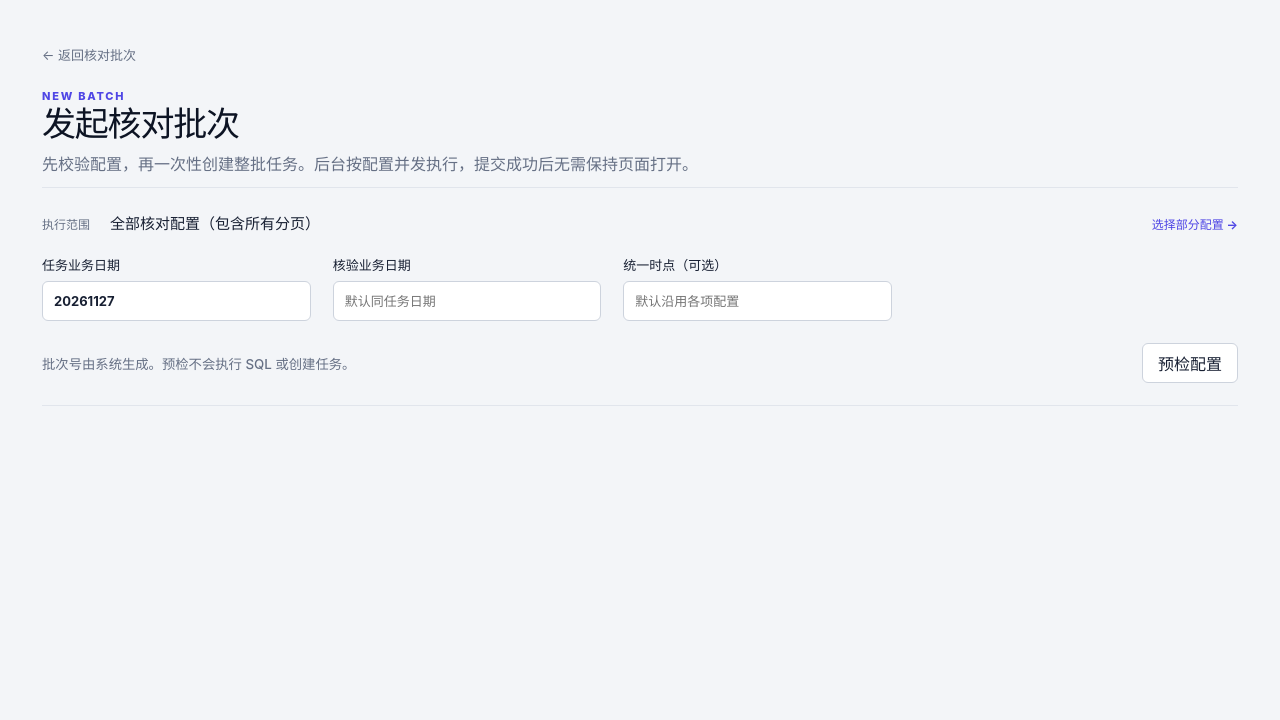
Test: requires a new preview after dates change or the server declares a stale preview
The width and height of the screenshot is (1280, 720).
Step 1. Click the button "预检配置" → (1190, 363), box [1142, 343, 1238, 383]
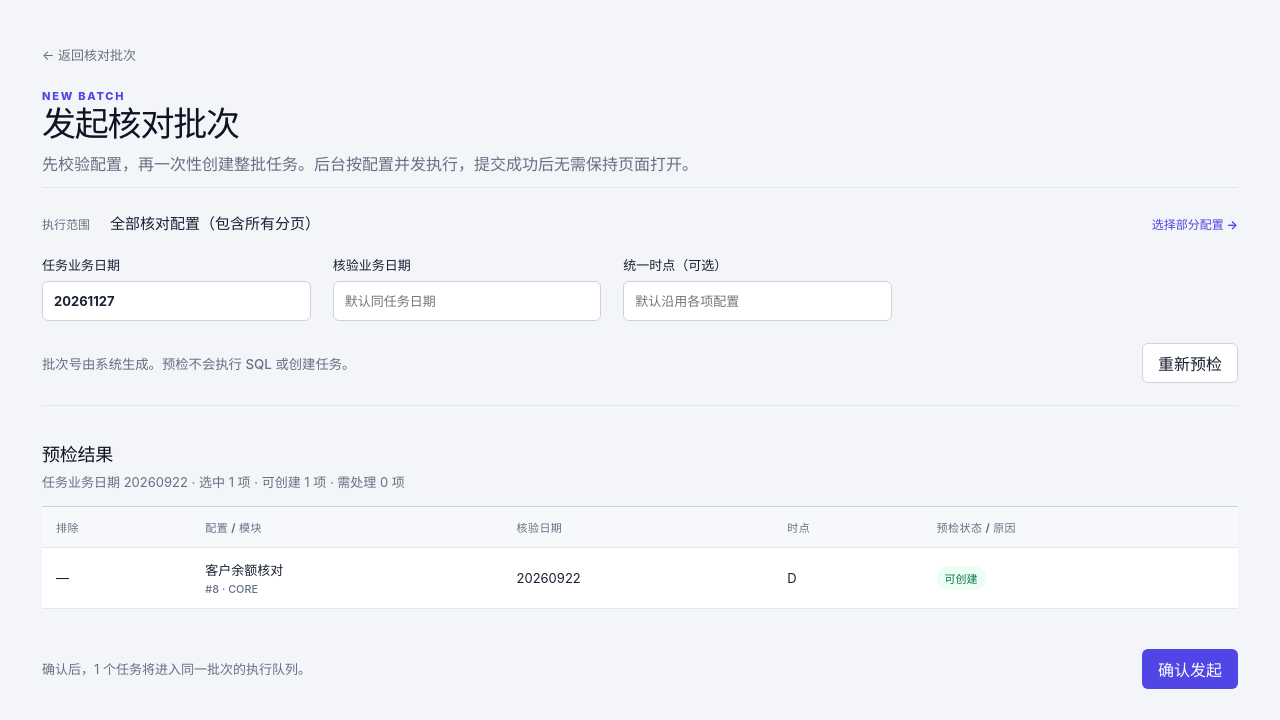
Step 2. Click the button "确认发起" → (1190, 669), box [1142, 649, 1238, 689]
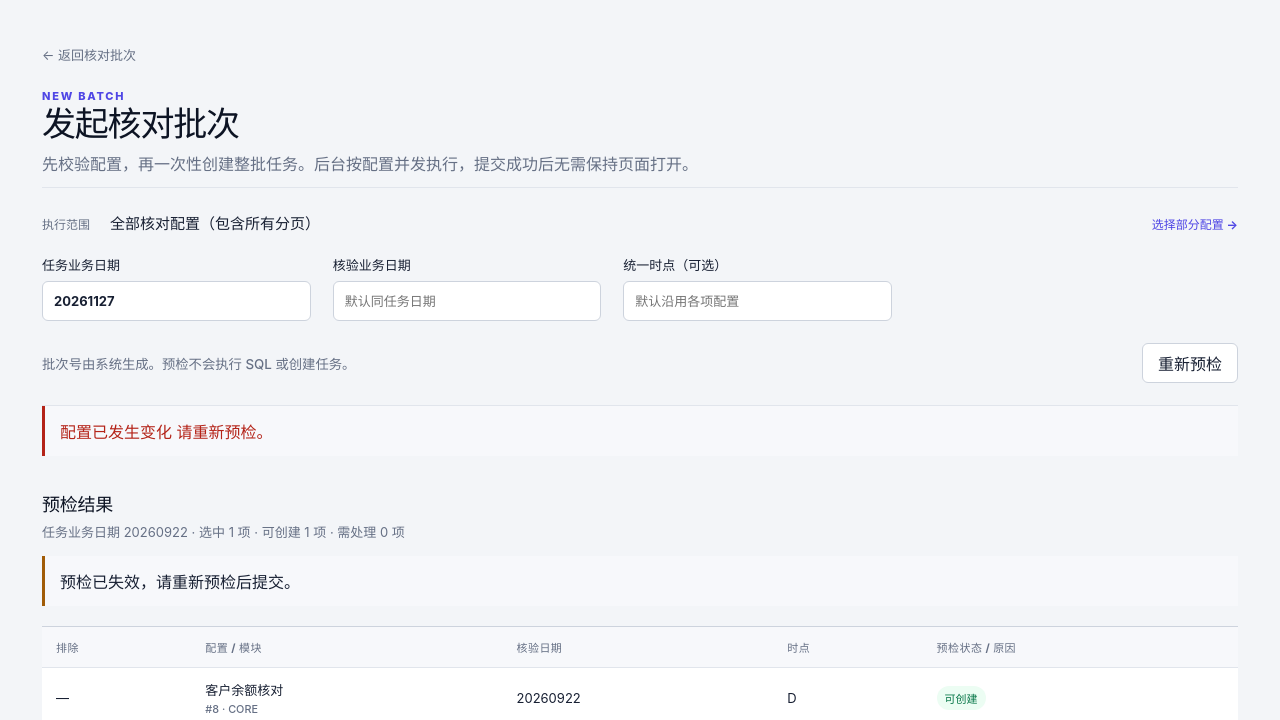
Now the message "配置已发生变化 请重新预检。" is shown, box [42, 406, 1238, 456]
Step 3. Click the button "重新预检" → (1190, 363), box [1142, 343, 1238, 383]
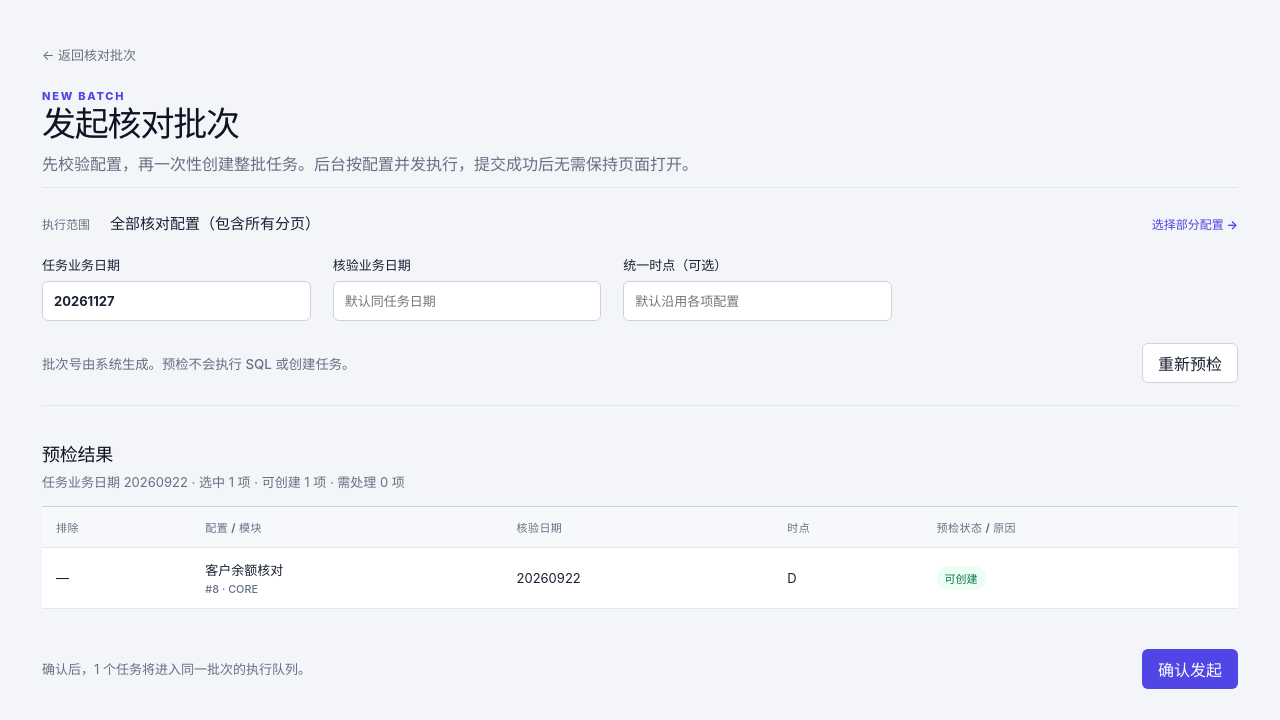
Now the button "确认发起" is enabled, box [1142, 649, 1238, 689]
Step 4. Type "N" into the field labelled "统一时点（可选）" → (758, 301), box [623, 281, 892, 321]
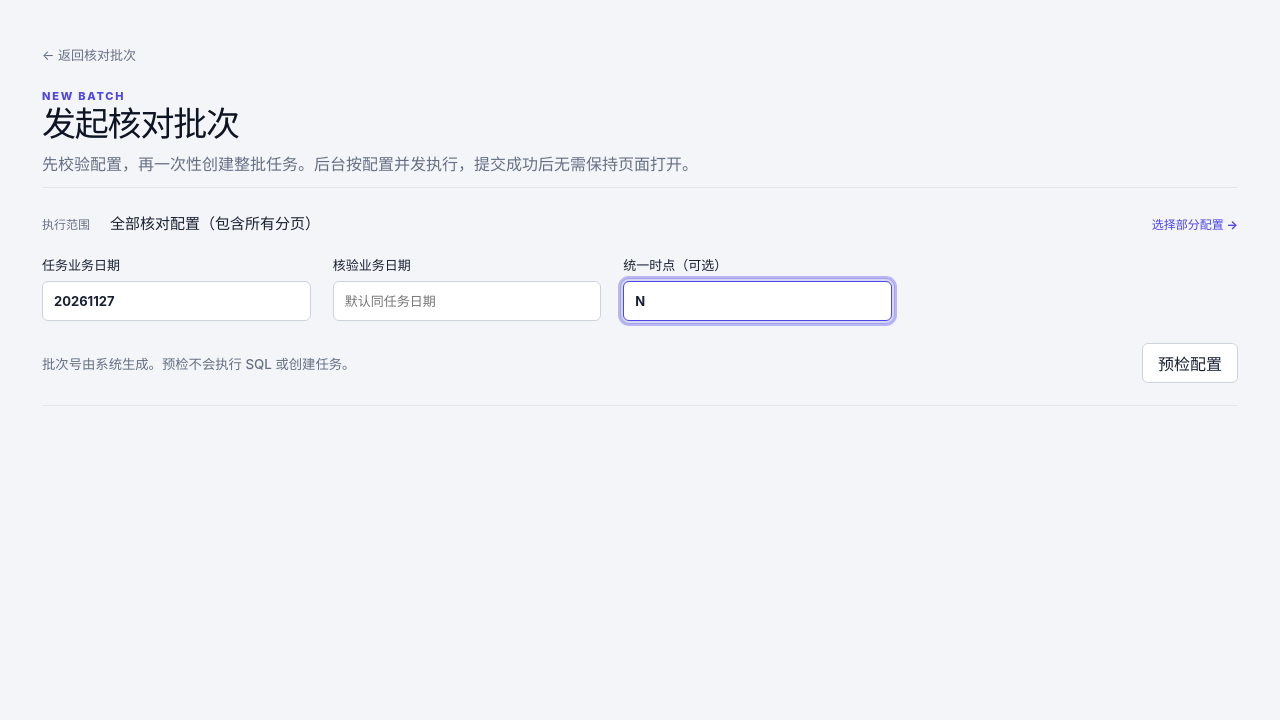
Now the button "确认发起" is gone
Now the button "预检配置" is shown, box [1142, 343, 1238, 383]
